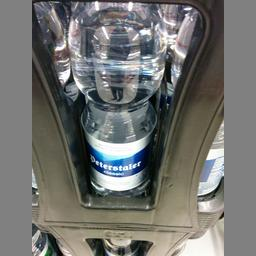water: (64, 2, 166, 196)
